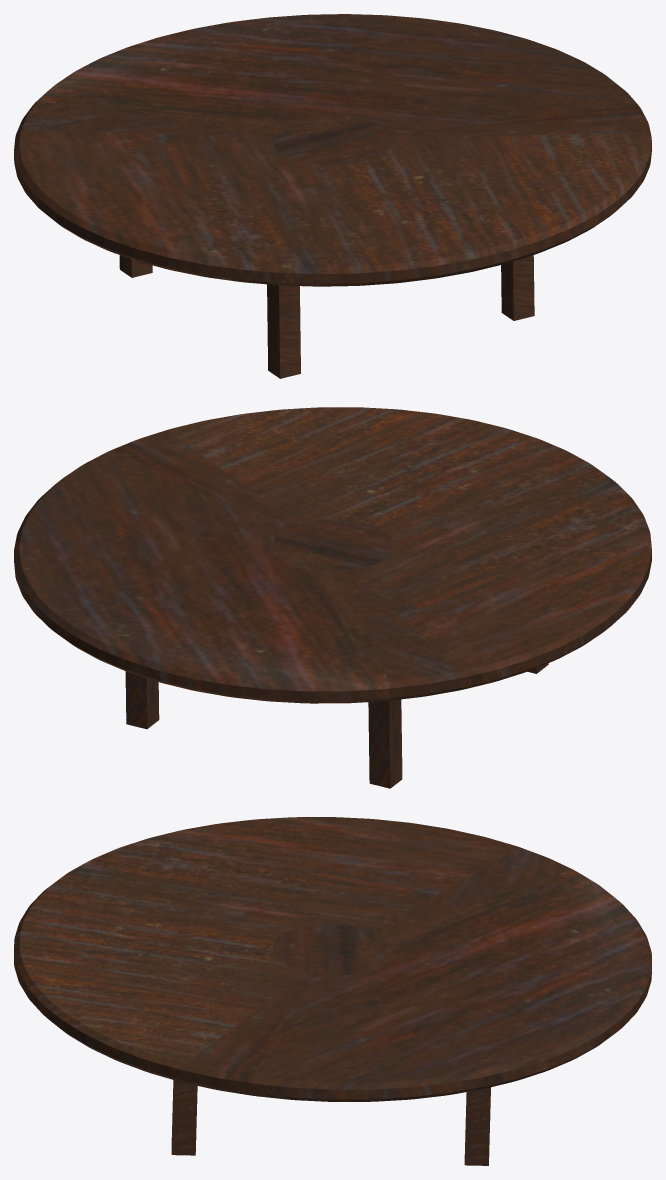
The model's file is nicetable.fbx.
3 renders of one model, top to bottom at view 1: azimuth 30°, elevation 25°; view 2: azimuth 150°, elevation 25°; view 3: azimuth 270°, elevation 25°, orthographic.
Visible parts, largest first — view 1: pCube5; view 2: pCube5; view 3: pCube5.
Boxes of the visible parts, bbox=[...] form: pCube5: bbox=[14, 14, 651, 378]; pCube5: bbox=[14, 407, 651, 788]; pCube5: bbox=[14, 817, 651, 1165].
Bounding box in the file's own units: 132 × 36.65 × 132.
